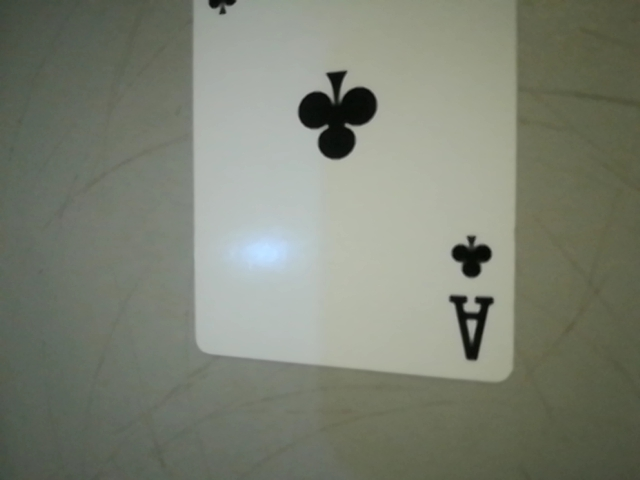mh a: (430, 219, 506, 372)
